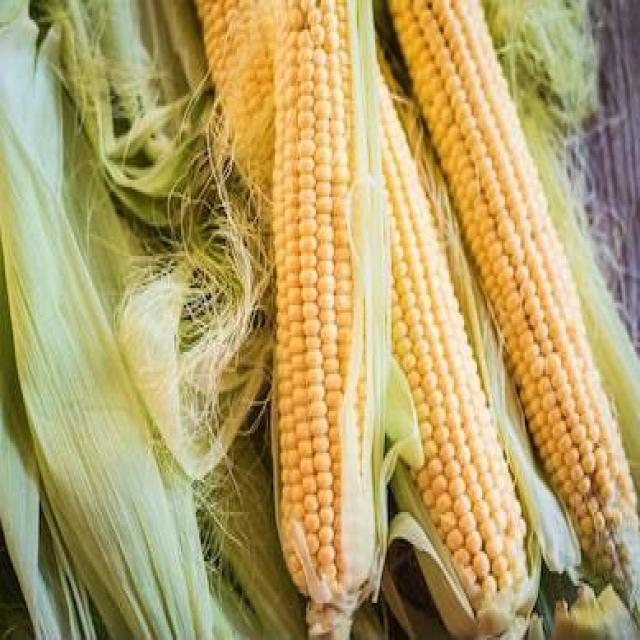Corn ear: (271, 5, 364, 593), (466, 116, 585, 393), (380, 415, 519, 608), (395, 0, 498, 187), (386, 192, 468, 412), (531, 338, 622, 526)
